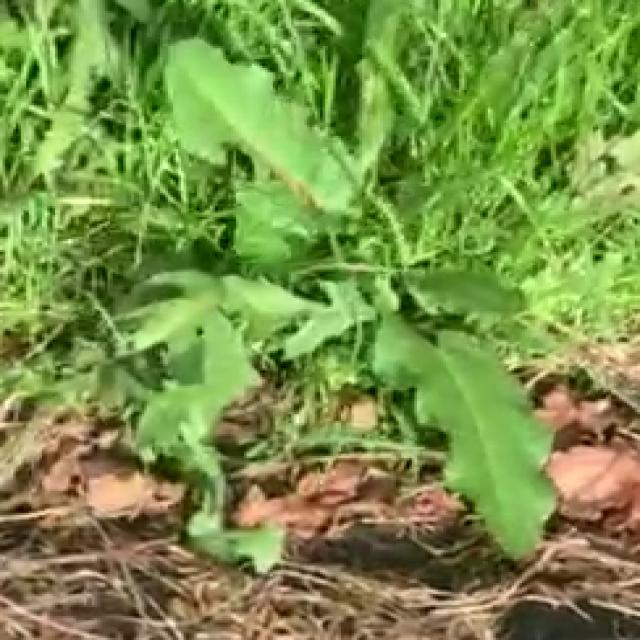organic waste: (92, 37, 619, 581)
